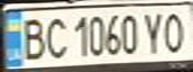0: (121, 11, 142, 55), (87, 11, 106, 57)
1: (69, 12, 90, 59)
6: (103, 11, 124, 56)
B: (15, 15, 48, 61)
C: (42, 13, 69, 60)
O: (160, 8, 190, 54)
Y: (139, 9, 169, 54)
